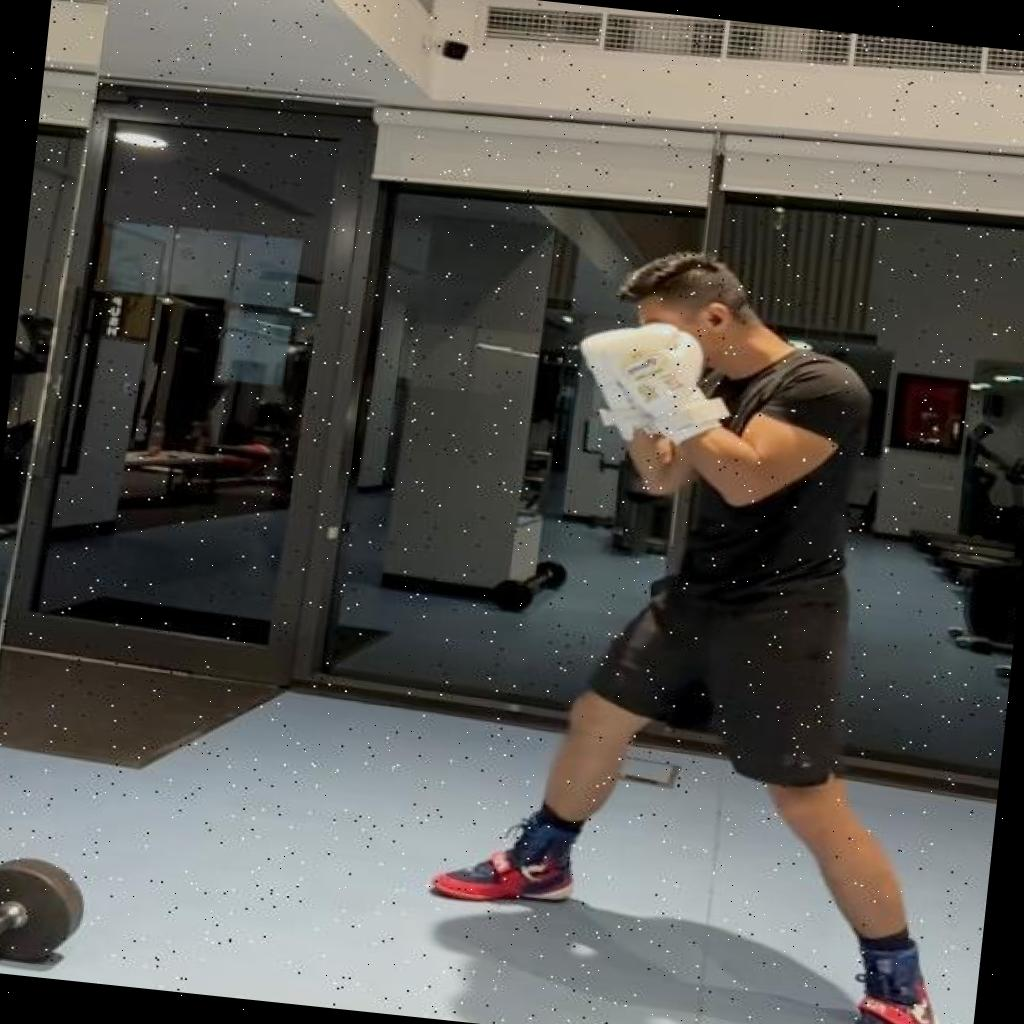no punch: (414, 231, 1021, 1024)
